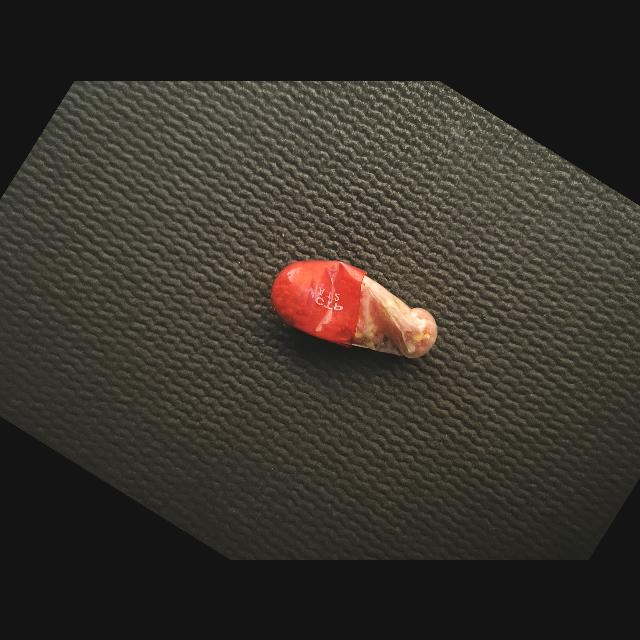Defective Capsule: (271, 260, 438, 358)
